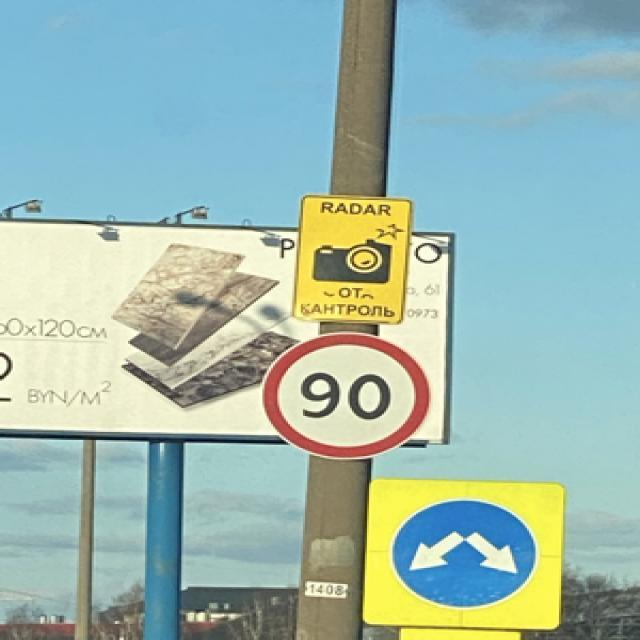speed limit 90: (261, 330, 430, 460)
